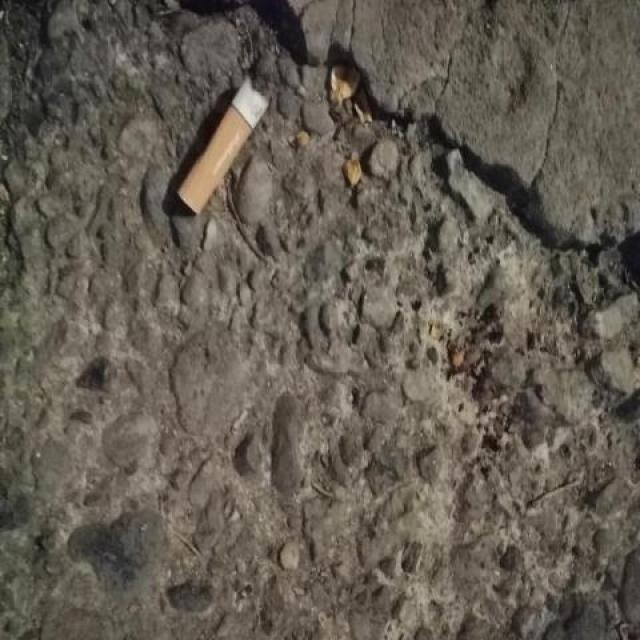non-organic waste: (175, 68, 273, 223)
